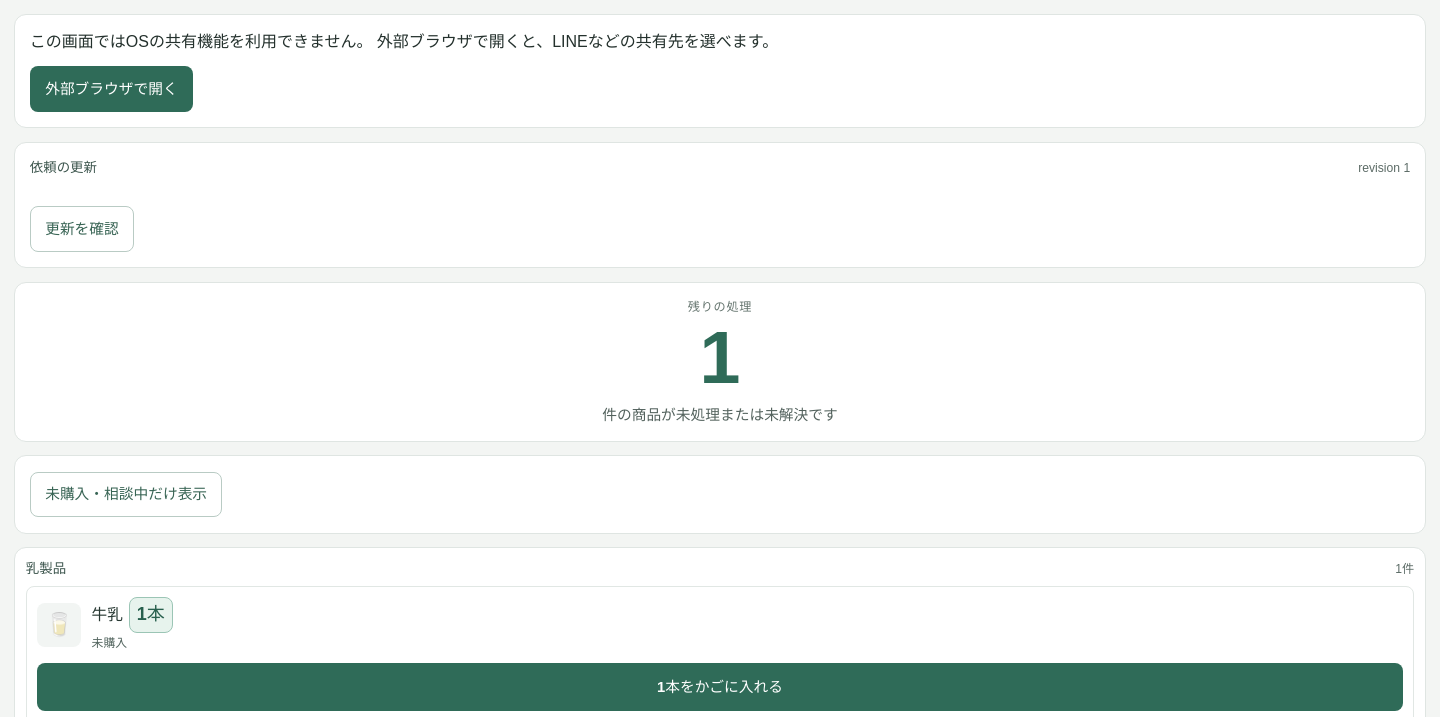
Test: ShoppingListPage live request synchronization › does not let a quantity-only update reuse the cart state without checking
The image size is (1440, 717).
What coordinates should you click on to do the following:
click the button "1本をかごに入れる"
I would click on:
 (720, 687)
Its box is [37, 663, 1403, 711].
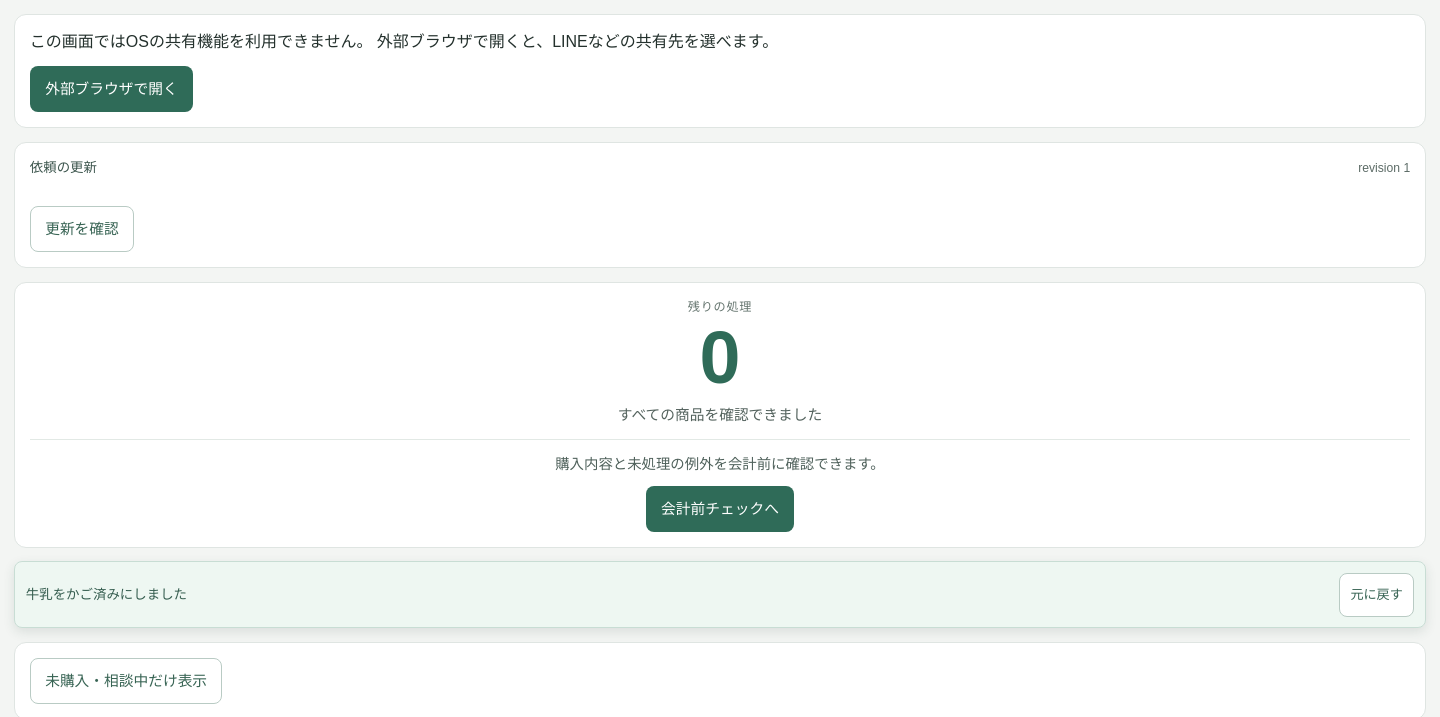
What coordinates should you click on to do the following:
click the button "更新を確認"
I would click on:
 (82, 229)
Its box is [30, 206, 134, 252].
(page scrolled)
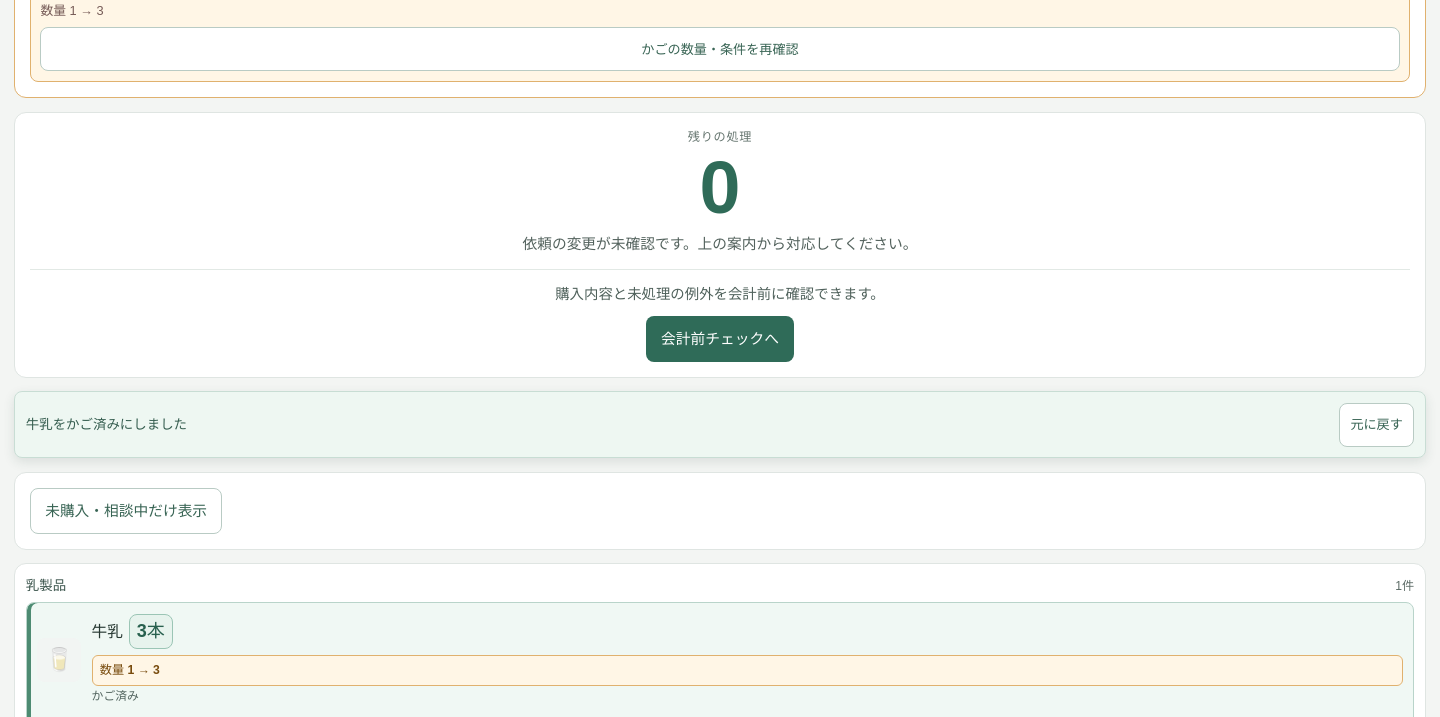
What coordinates should you click on to do the following:
click the button "会計前チェックへ"
I would click on:
 (720, 339)
Its box is [646, 316, 794, 362].
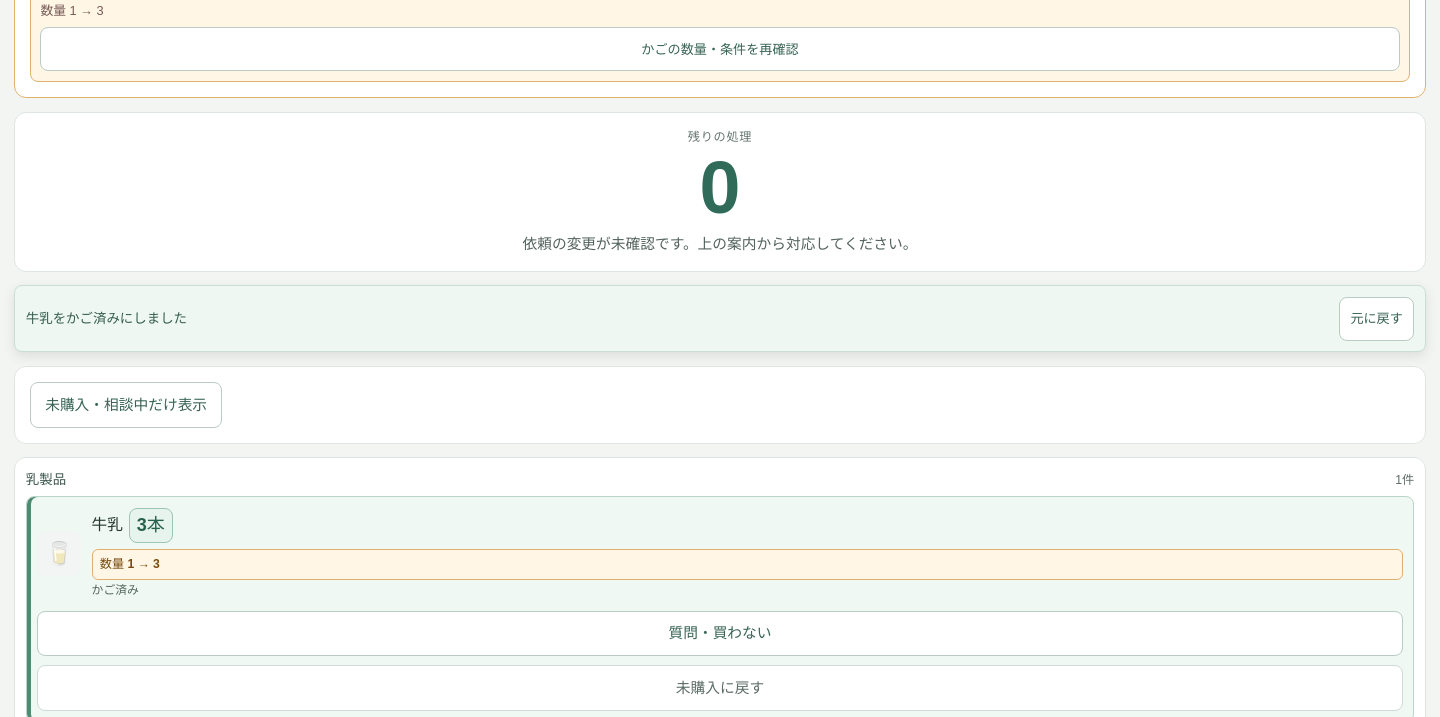
What coordinates should you click on to do the following:
click the button "かごの数量・条件を再確認"
I would click on:
 (720, 49)
Its box is [40, 27, 1400, 71].
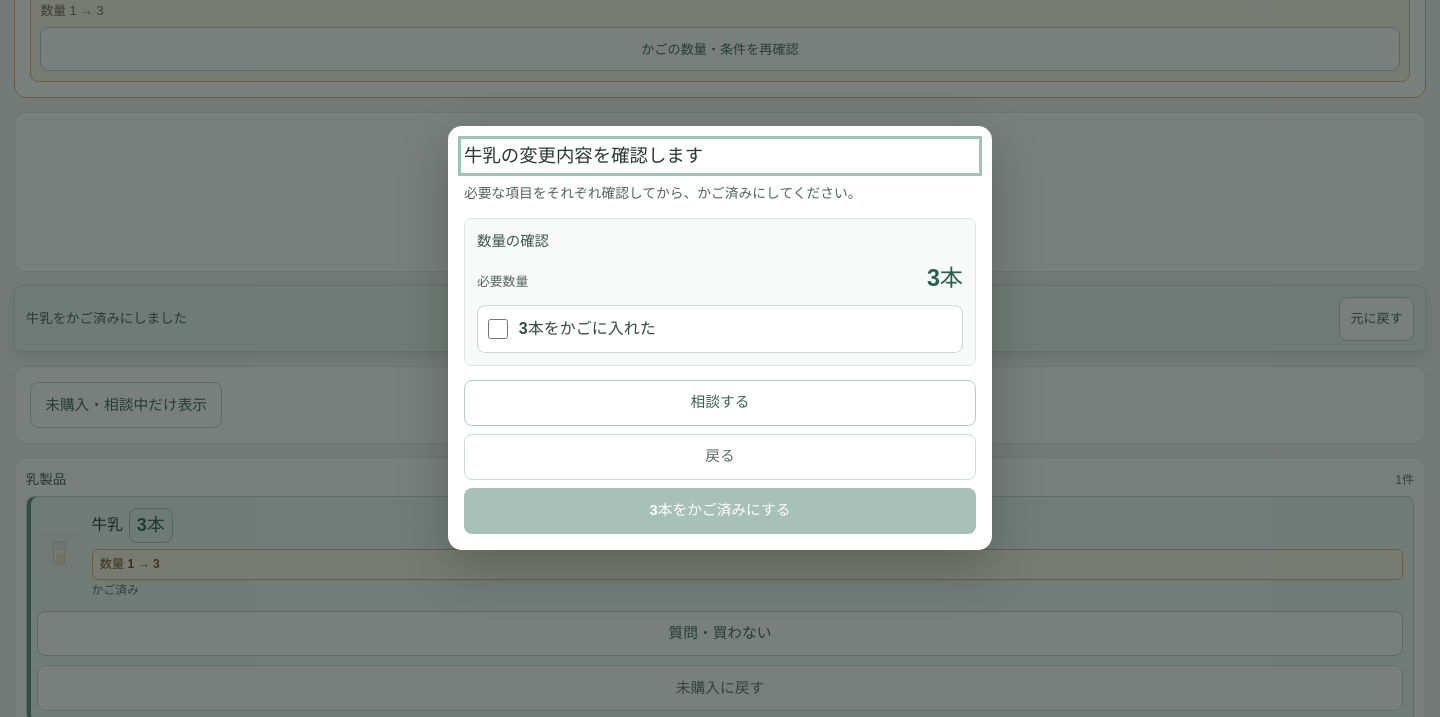
Result: the button "3本をかご済みにする" is disabled at [464, 488, 976, 534]
What coordinates should you click on to do the following:
click the checkbox
I would click on:
 (498, 329)
Its box is [488, 319, 508, 339].
(page scrolled)
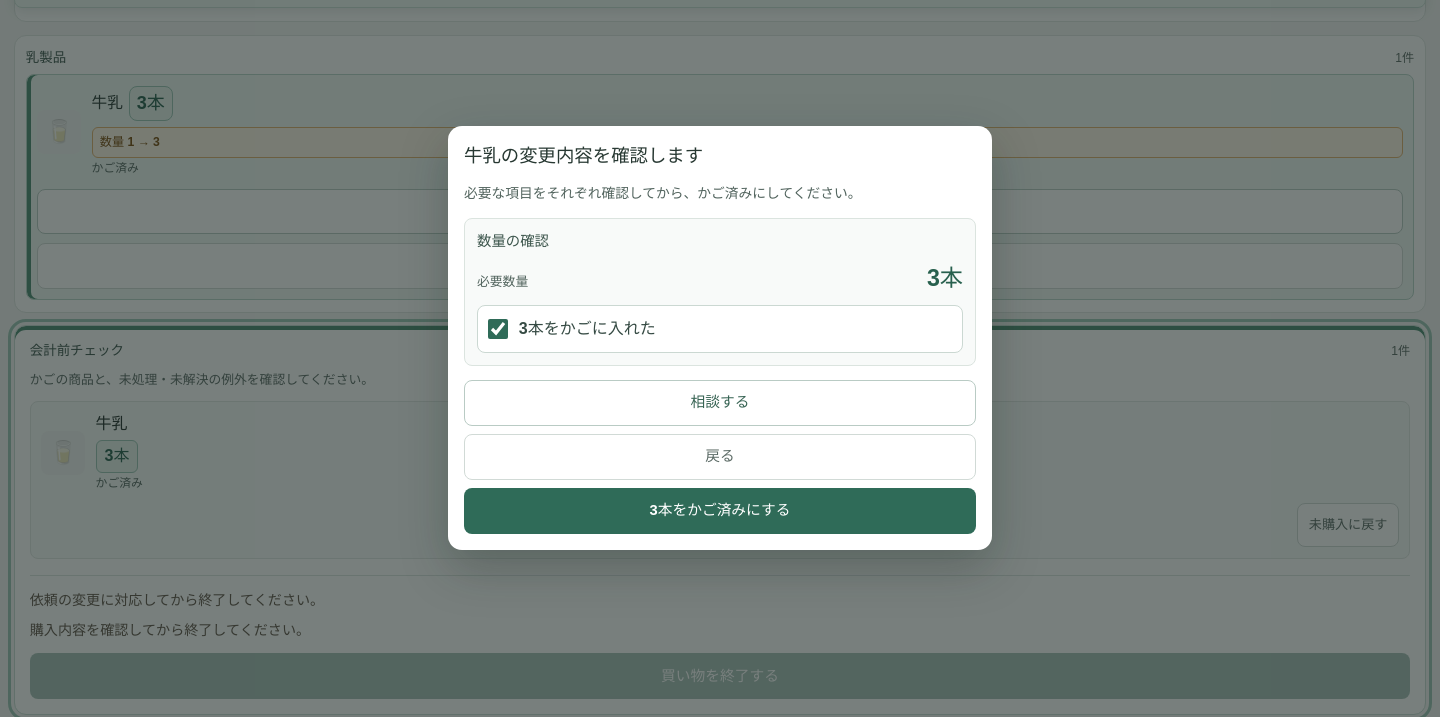
Result: the button "3本をかご済みにする" is enabled
What coordinates should you click on to do the following:
click the button "3本をかご済みにする"
I would click on:
 (720, 510)
Its box is [464, 488, 976, 534].
(page scrolled)
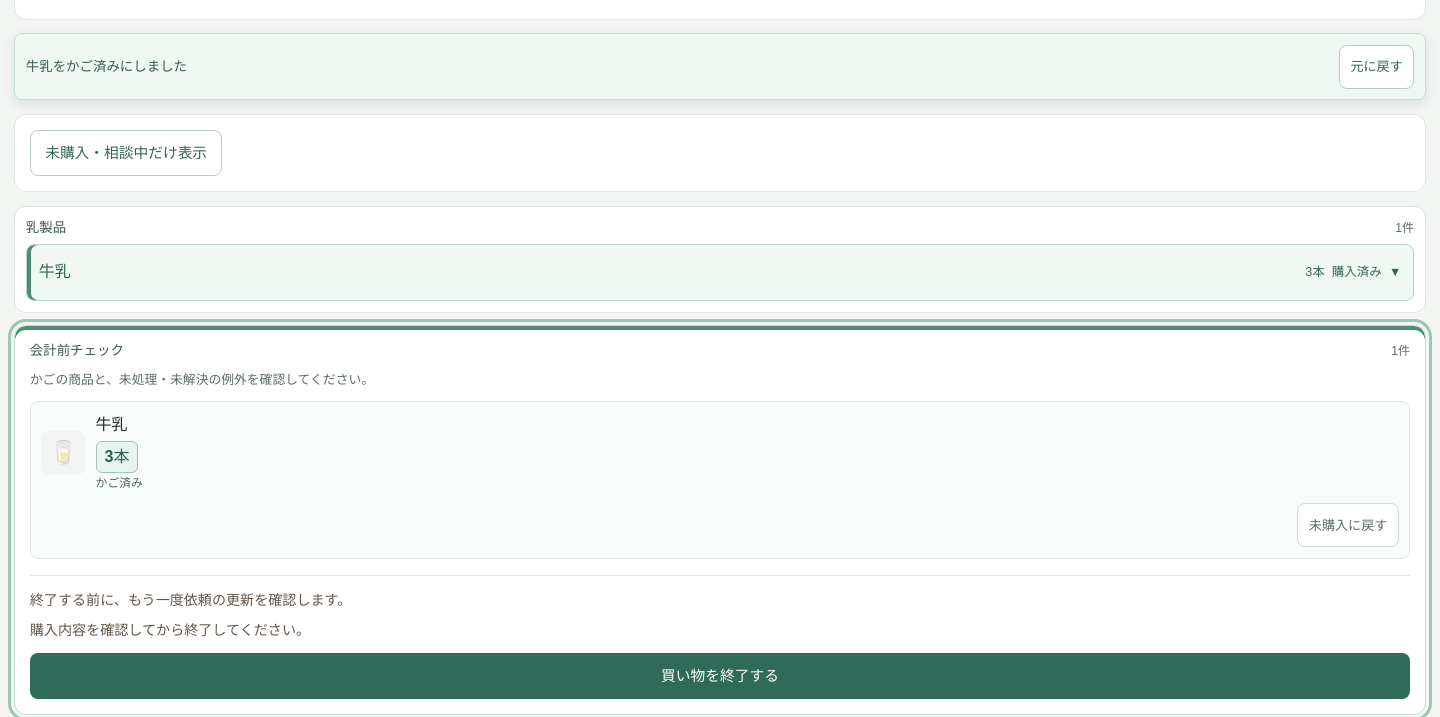
Result: the button "買い物を終了する" is enabled at [30, 653, 1410, 699]
